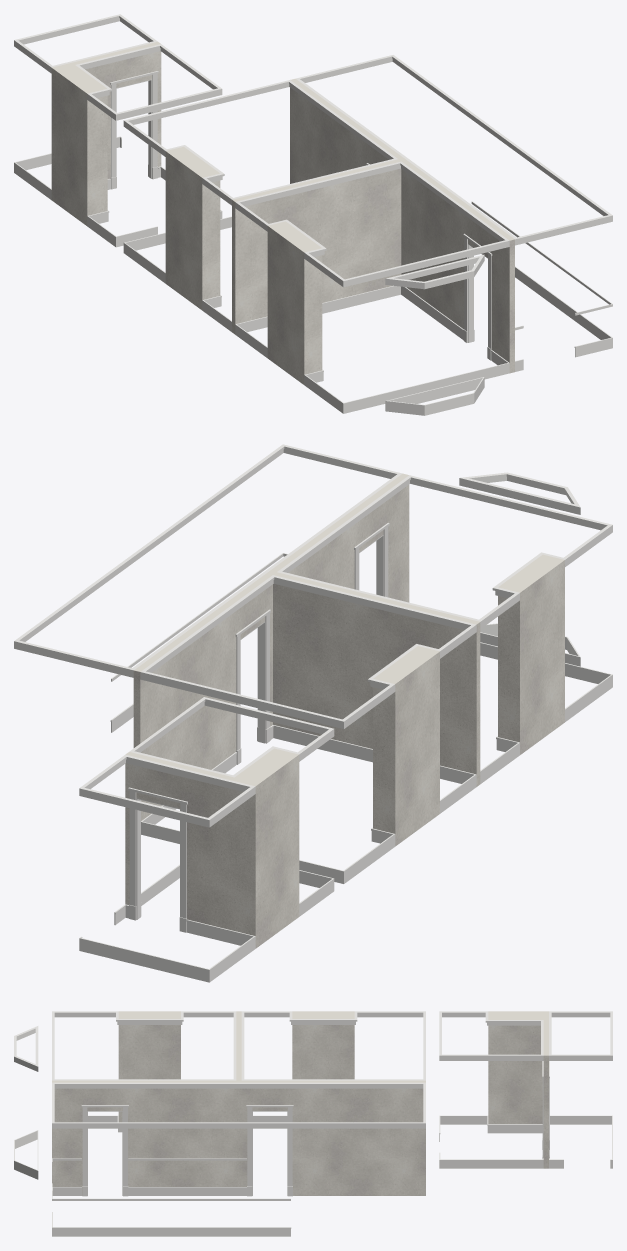
File: walls_0_r.glb
The picture shows the model from 3 angles, top to bottom: view 1: azimuth 30°, elevation 25°; view 2: azimuth 150°, elevation 25°; view 3: azimuth 270°, elevation 25°; orthographic projection. The views are drawn at different scales.
Visible parts, largest first — view 1: walls_0_r_plaster, walls_0_r_trim; view 2: walls_0_r_plaster, walls_0_r_trim; view 3: walls_0_r_plaster, walls_0_r_trim.
Part boxes in pixels (x1,y1,x2,y2): walls_0_r_plaster: (51, 42, 514, 384); walls_0_r_trim: (14, 14, 612, 415); walls_0_r_plaster: (125, 473, 564, 948); walls_0_r_trim: (14, 444, 612, 982); walls_0_r_plaster: (52, 1011, 548, 1195); walls_0_r_trim: (14, 1011, 612, 1236).
Size of the model in its own units: 5.95 by 2.8 by 13.45.
Materials: 2 (1 with a texture image).
